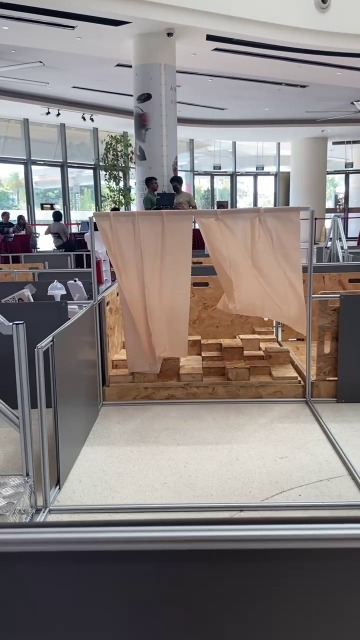curtain: (90, 192, 331, 397)
